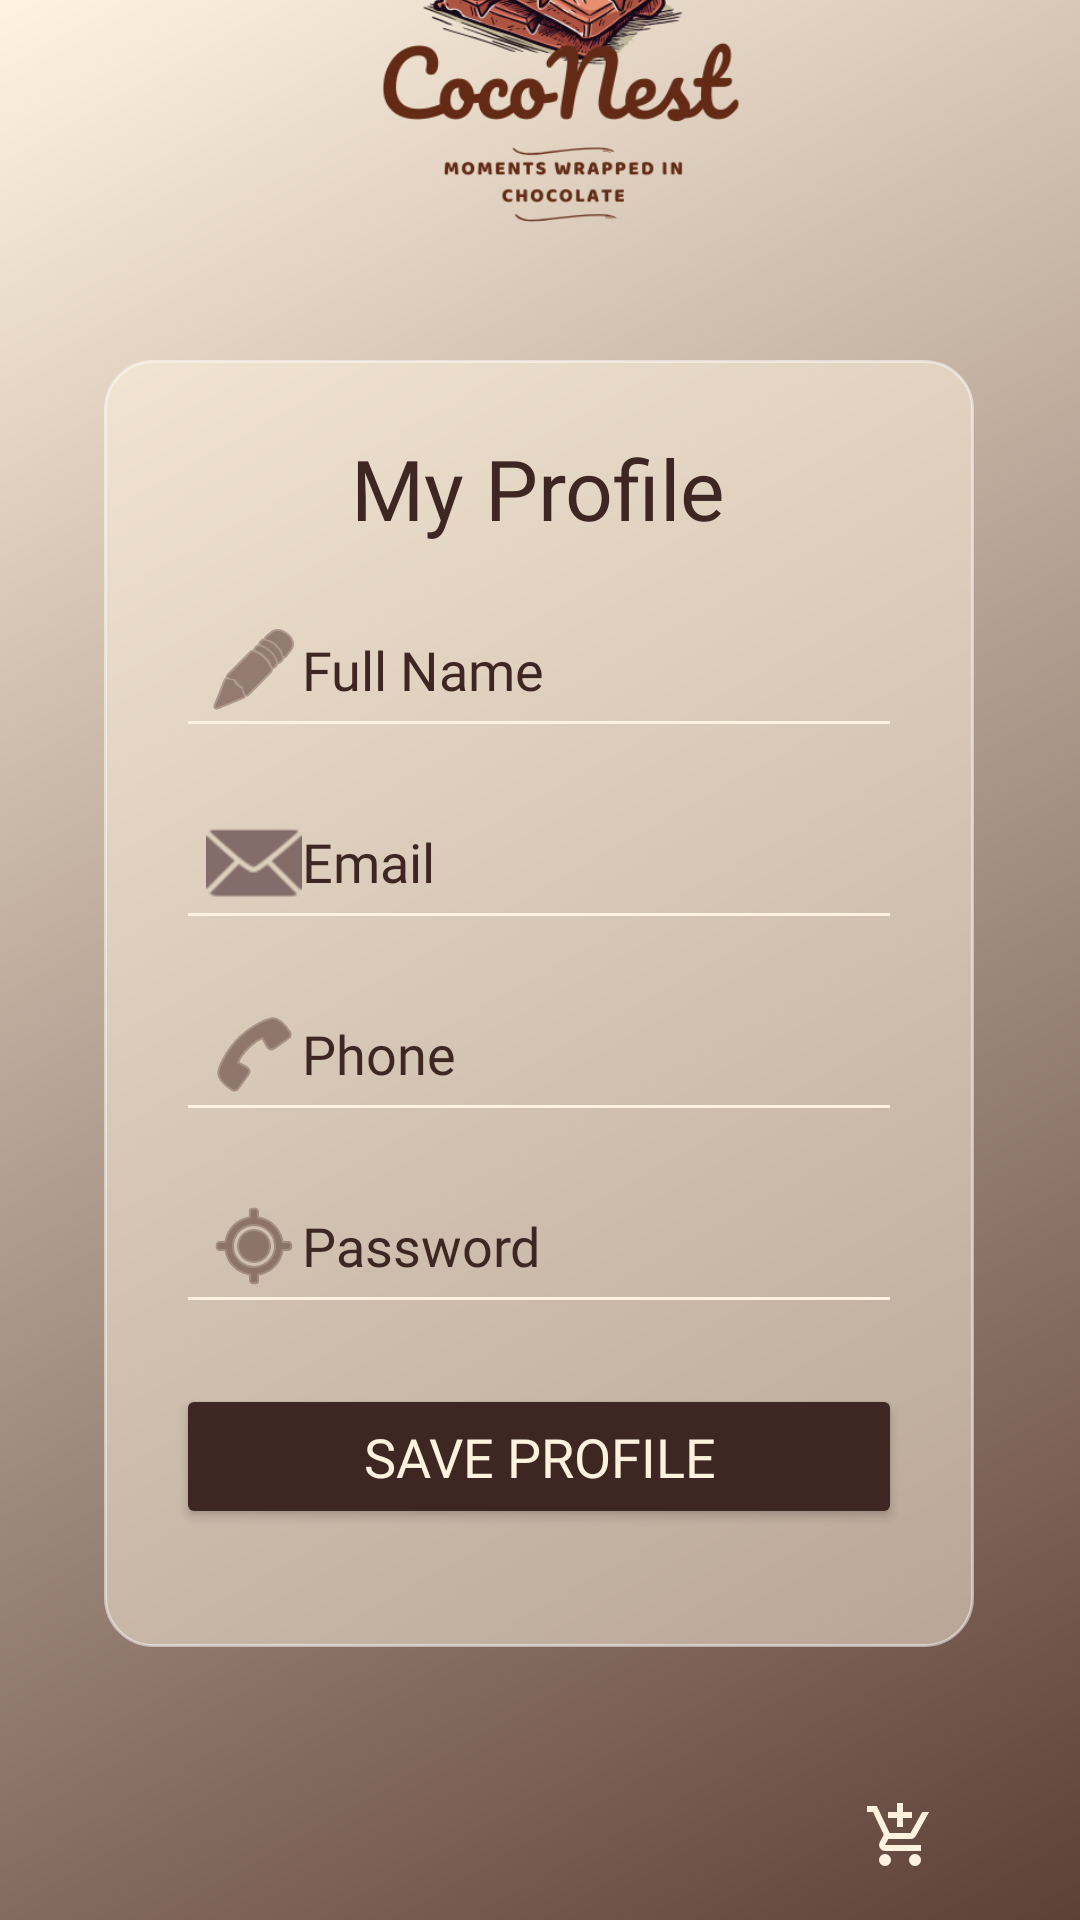

Named icons in this screenshot (1080px×1920px) and their centers, (x,y):
cart: (898,1834)
